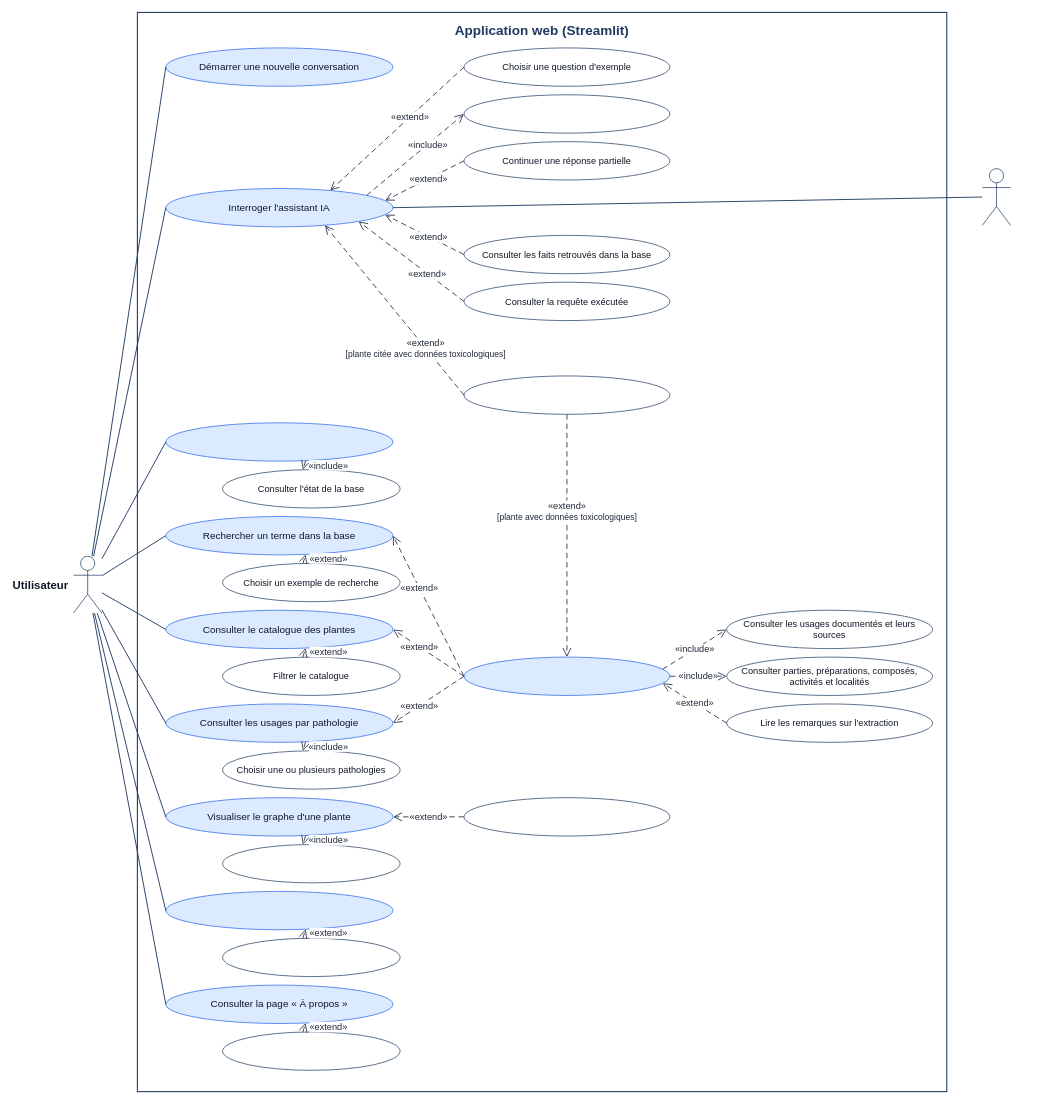
This 1056x1105 diagram has some shape labels left out. Here are the shapes that lost their labels. From the top down, the centre of each, then its label:
At point (566, 113): "Consulter les références citées".
At point (996, 196): "Modèle de langue".
At point (566, 394): "Être alerté des données de toxicité".
At point (279, 441): "Consulter l'accueil".
At point (566, 675): "Ouvrir la fiche d'une plante".
At point (566, 816): "Choisir la profondeur du voisinage".
At point (311, 863): "Choisir la plante à visualiser".
At point (279, 910): "Consulter les sources scientifiques".
At point (311, 957): "Consulter la référence complète et les plantes documentées".
At point (311, 1050): "Consulter l'échelle des niveaux de preuve".
